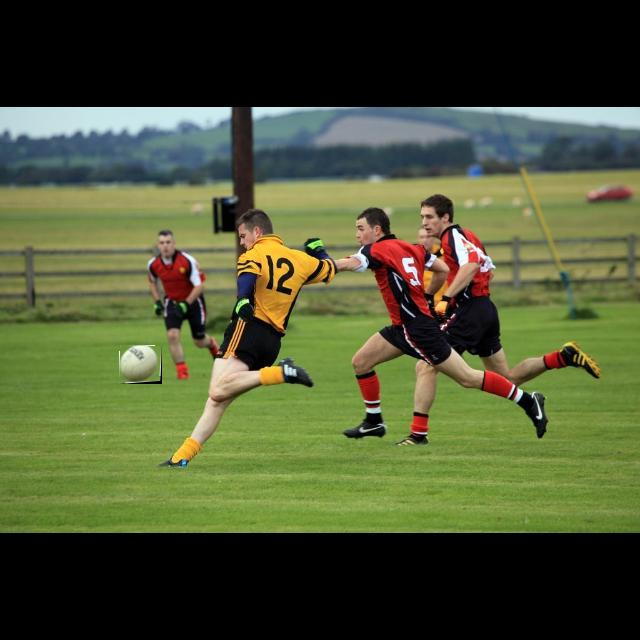Football: (120, 346, 162, 384)
